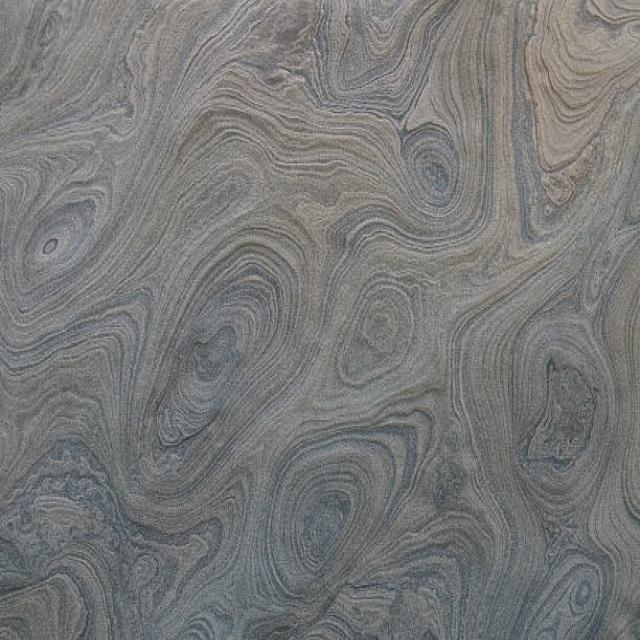Sedimentary: (2, 3, 640, 639)
